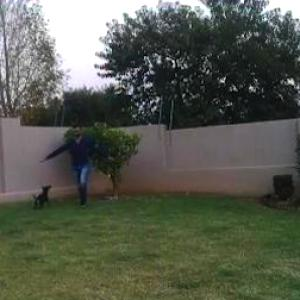land: (52, 108, 134, 219)
